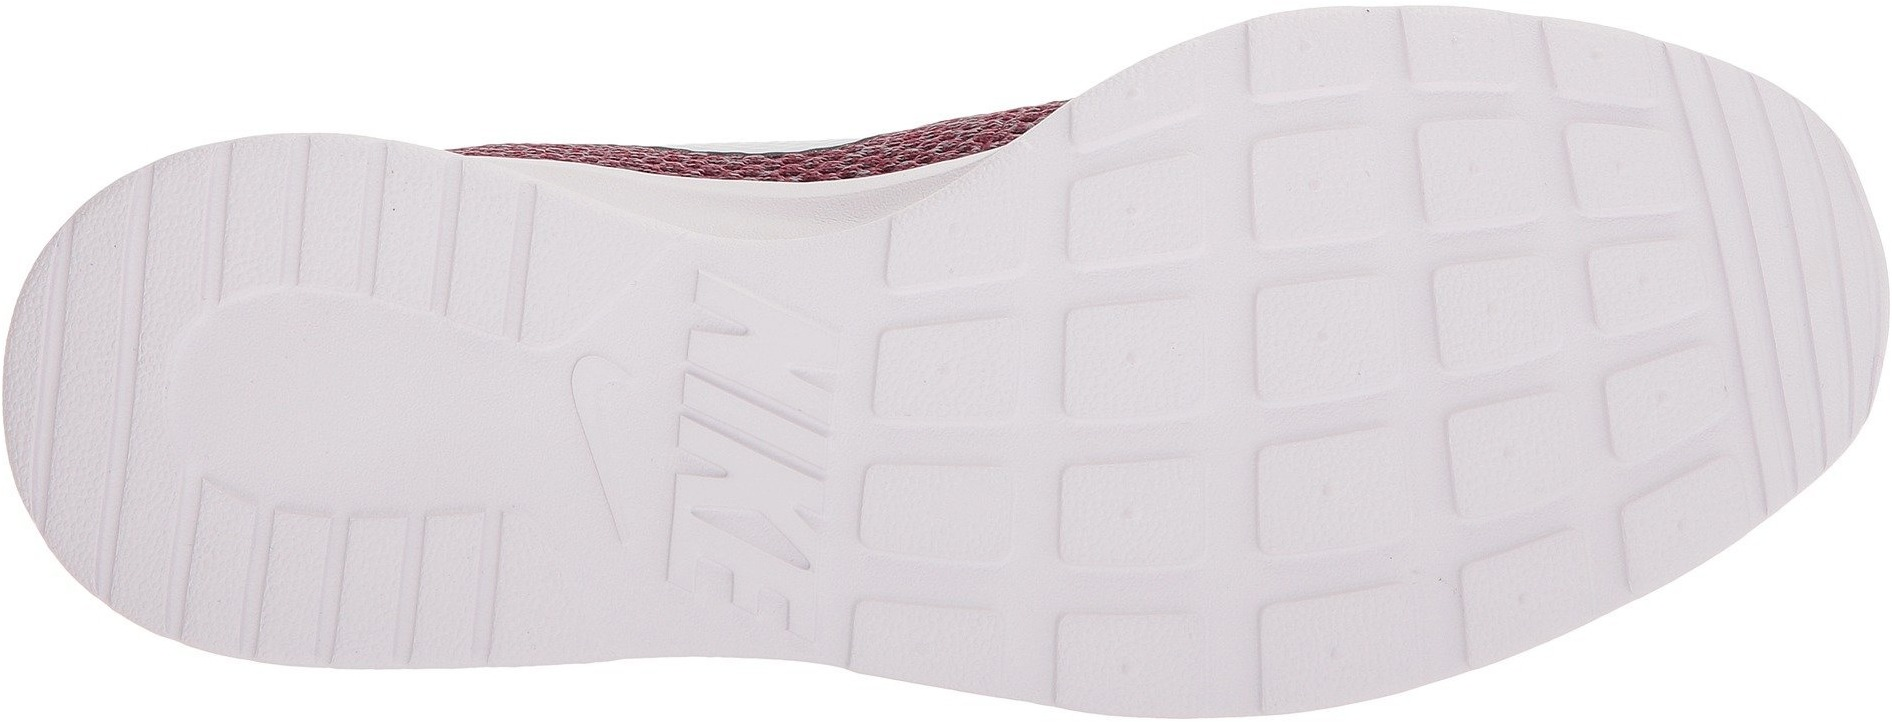circle: (0, 128, 535, 670), (176, 295, 535, 512)
line: (373, 140, 445, 313), (217, 135, 293, 299), (255, 508, 333, 666), (294, 134, 373, 289), (405, 517, 484, 669), (329, 516, 405, 670)
quad: (662, 263, 854, 650), (1254, 423, 1413, 564), (1261, 582, 1427, 715), (1252, 275, 1407, 411), (1431, 246, 1567, 382), (1058, 456, 1211, 575), (1062, 299, 1211, 419), (1415, 118, 1559, 235), (1249, 128, 1383, 251), (872, 318, 1020, 429), (1064, 151, 1205, 263), (1055, 609, 1205, 714), (865, 461, 1014, 567), (849, 599, 1004, 698), (1584, 234, 1710, 334), (1563, 123, 1690, 221), (1249, 2, 1373, 103), (1400, 11, 1528, 92)
